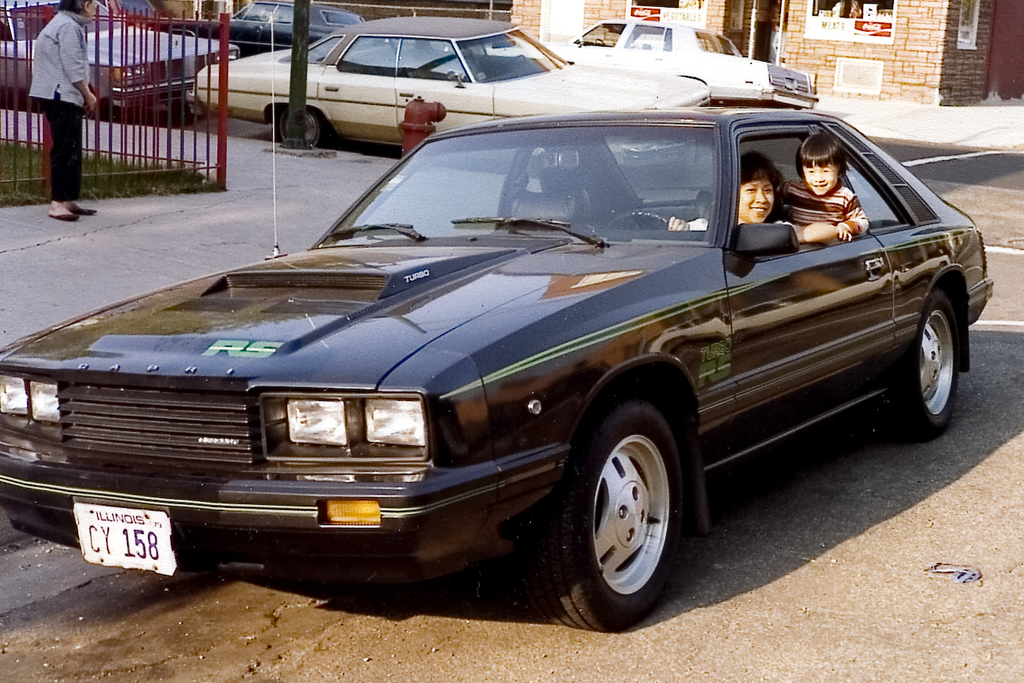Person: (28, 0, 97, 222), (775, 134, 869, 242)
